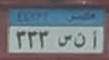3: (38, 29, 49, 50), (27, 29, 38, 50), (16, 29, 26, 49)
alif: (91, 30, 99, 50)
noon: (73, 31, 87, 49)
seen: (57, 33, 72, 49)
